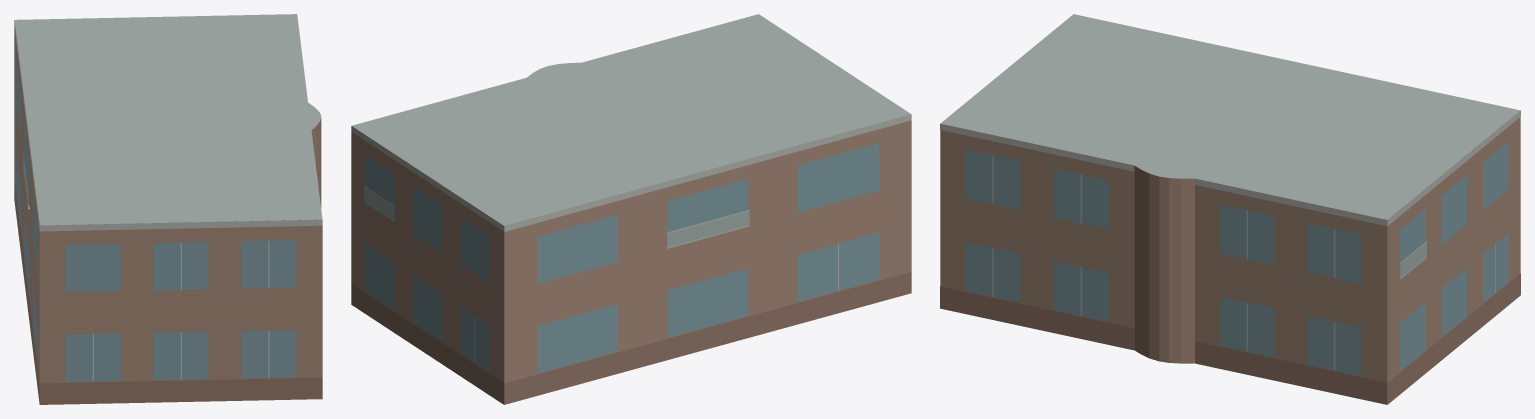
Rendered from survey-upis-32727633.glb.
3 views of the same model, side by side, from view 1: azimuth 30°, elevation 25°; view 2: azimuth 150°, elevation 25°; view 3: azimuth 270°, elevation 25° (orthographic). The views are drawn at different scales.
Parts seen in each view (by area): view 1: survey-upis-32727633.tmp; view 2: survey-upis-32727633.tmp; view 3: survey-upis-32727633.tmp.
Part boxes in pixels (x1=…): survey-upis-32727633.tmp: x1=14, y1=14, x2=322, y2=404; survey-upis-32727633.tmp: x1=351, y1=14, x2=911, y2=404; survey-upis-32727633.tmp: x1=940, y1=14, x2=1520, y2=404.
Bounding box in the file's own units: 17.21 × 7.2 × 20.5.
